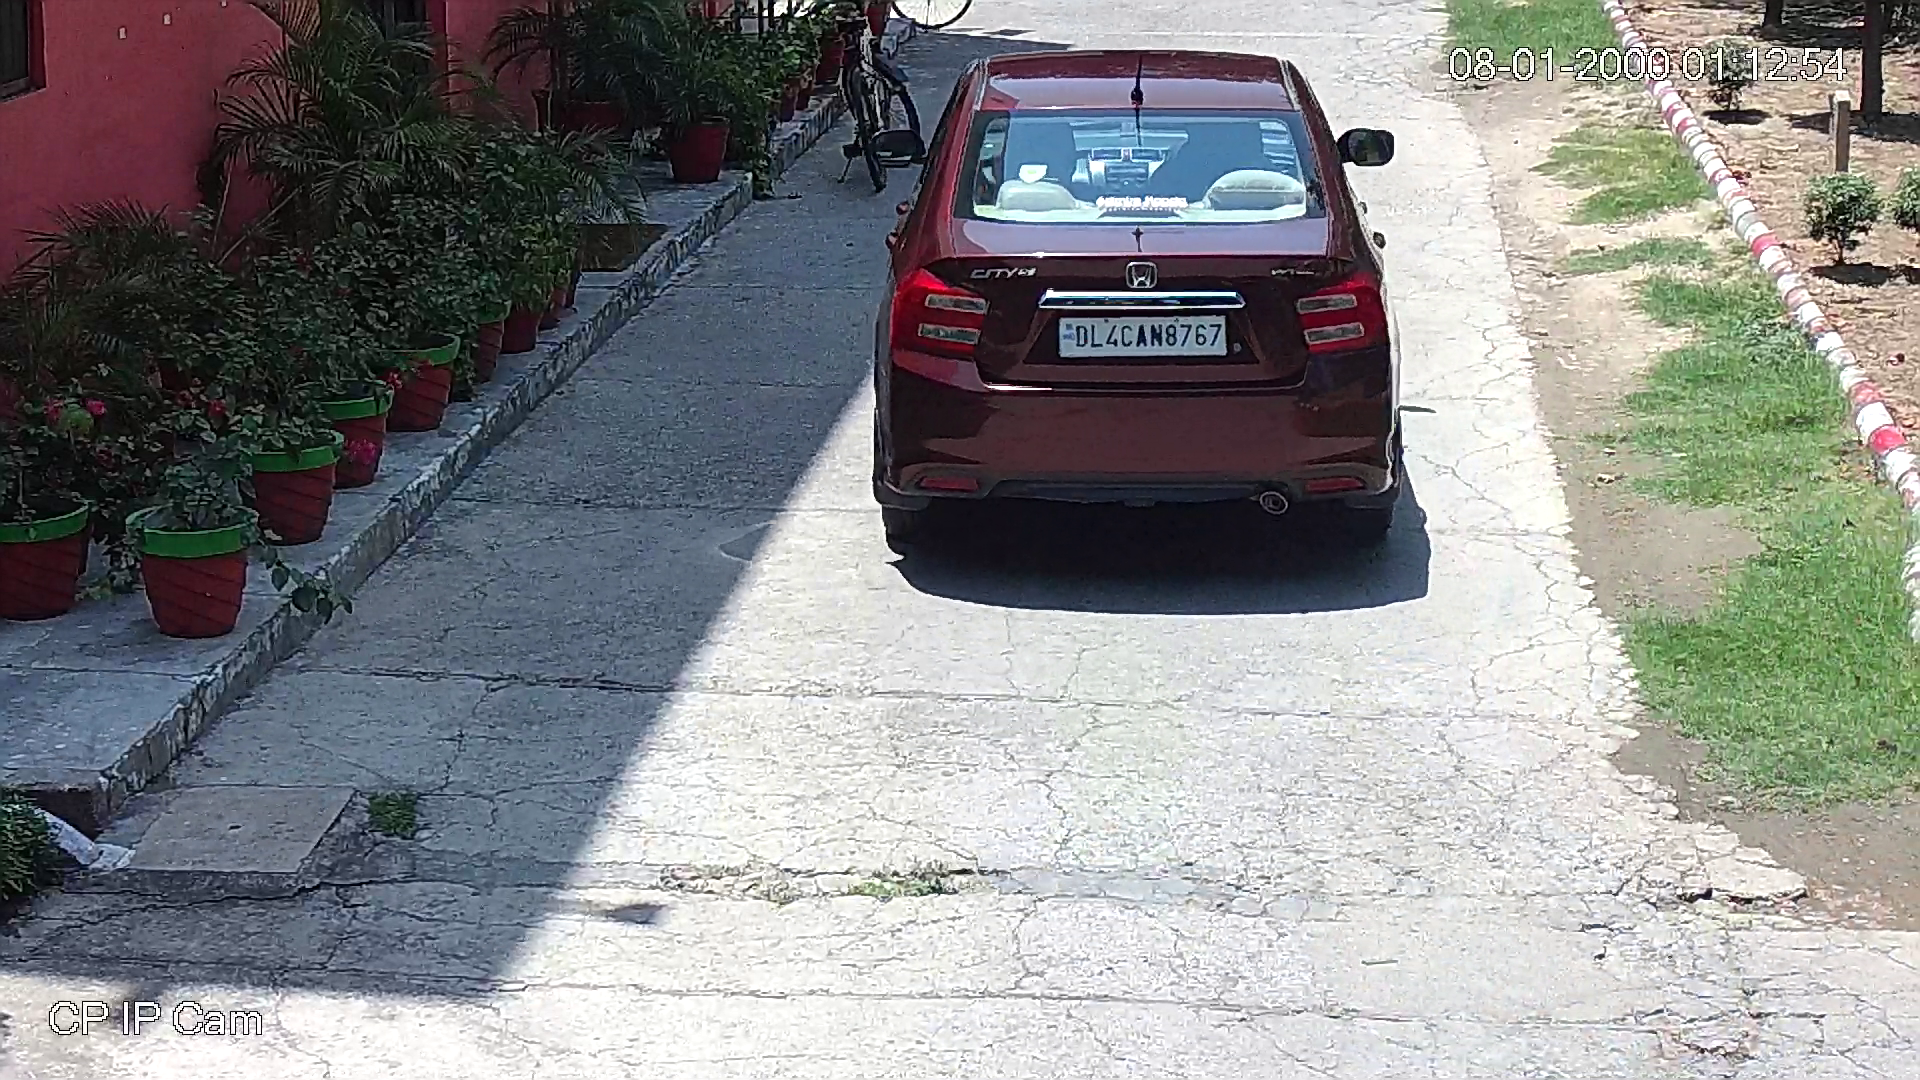plate: (1049, 305, 1233, 368)
